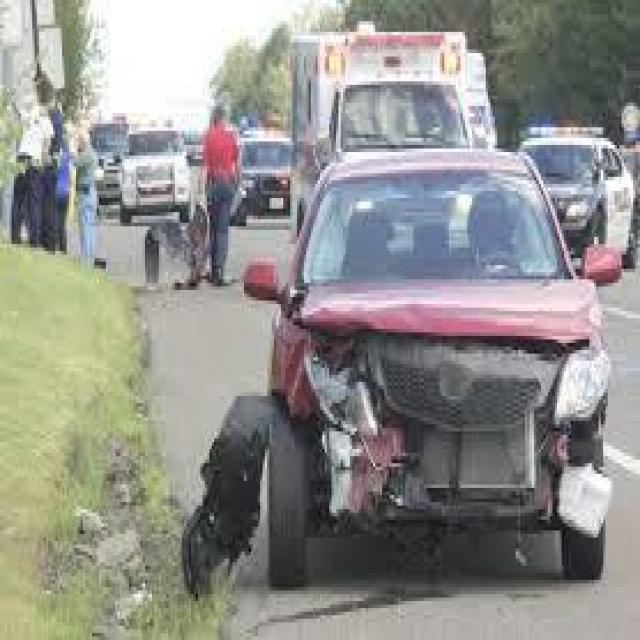damaged: (285, 322, 617, 544)
